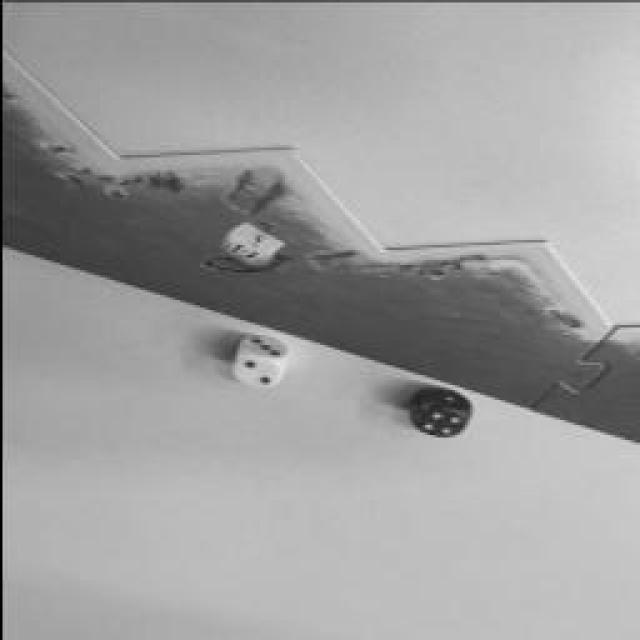dice_2: (229, 354, 281, 386)
dice_4: (412, 405, 468, 437)
